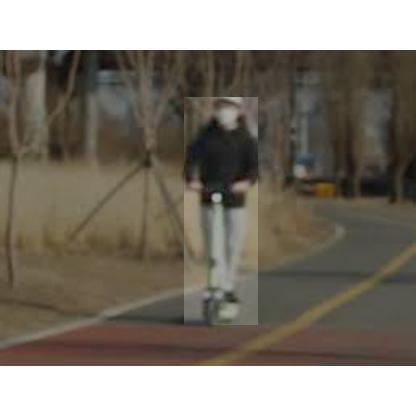with scooter: (184, 97, 258, 325)
